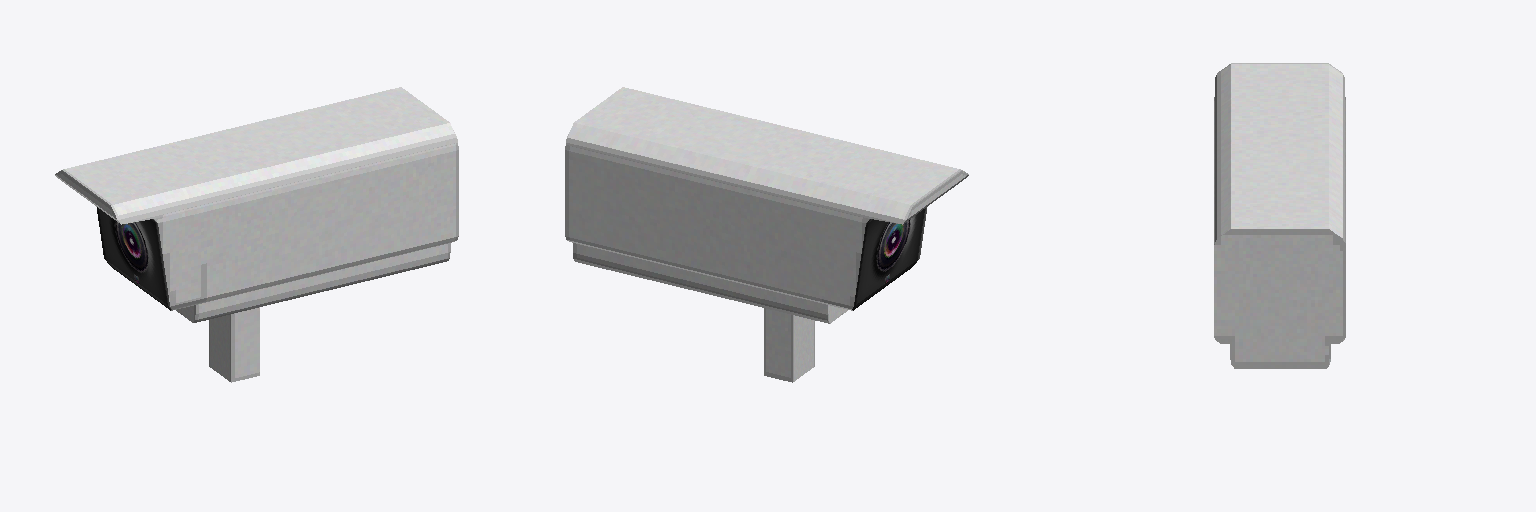
3 renders of one model, left to right at view 1: azimuth 30°, elevation 25°; view 2: azimuth 150°, elevation 25°; view 3: azimuth 270°, elevation 25°, orthographic.
Visible parts, largest first — view 1: Box040; view 2: Box040; view 3: Box040.
Part boxes in pixels (x1,y1,x2,y2): Box040: (55,87,458,382); Box040: (565,87,968,382); Box040: (1214,63,1345,368).
Size of the model in its own units: 17.29 by 10.69 by 5.84.
1 materials, 1 textured.